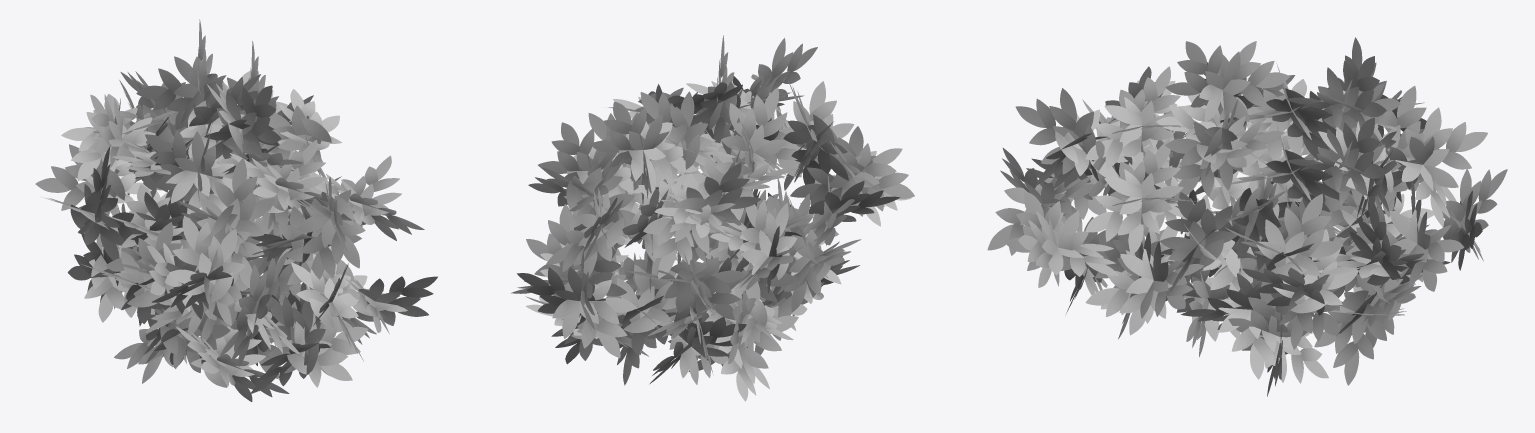
The model's file is leaves_small.fbx.
3 renders of one model, left to right at view 1: azimuth 30°, elevation 25°; view 2: azimuth 150°, elevation 25°; view 3: azimuth 270°, elevation 25°, orthographic. The views are drawn at different scales.
Visible parts, largest first — view 1: trim_sheet70; view 2: trim_sheet70; view 3: trim_sheet70.
Part boxes in pixels (x1,y1,x2,y2): trim_sheet70: [35, 19, 437, 401]; trim_sheet70: [511, 35, 914, 401]; trim_sheet70: [987, 37, 1507, 396].
Size of the model in its own units: 662 by 725 by 999.
2 materials, 2 textured.
